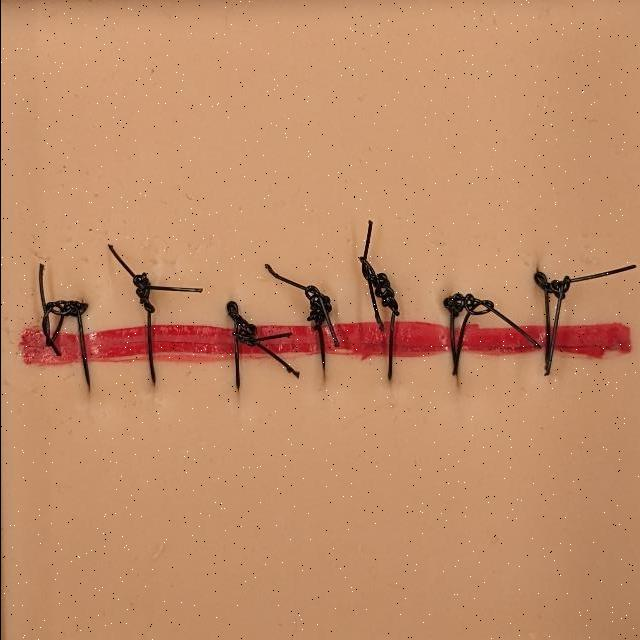knot_good: (355, 231, 404, 321), (530, 255, 580, 305)
knot_loose: (440, 267, 506, 321), (35, 283, 104, 331)
knot_perfect: (124, 254, 172, 314)
knot_tight: (290, 264, 340, 328), (218, 290, 266, 342)
suture_good: (535, 302, 571, 417), (441, 317, 477, 411), (379, 309, 405, 428), (70, 325, 92, 423)
suture_tight: (223, 339, 255, 438), (306, 321, 332, 425), (139, 317, 161, 436)
